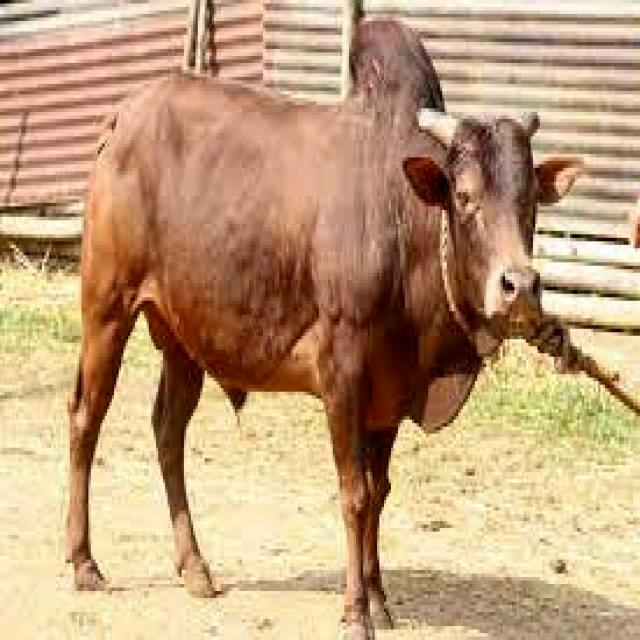COW: (66, 21, 576, 639)
